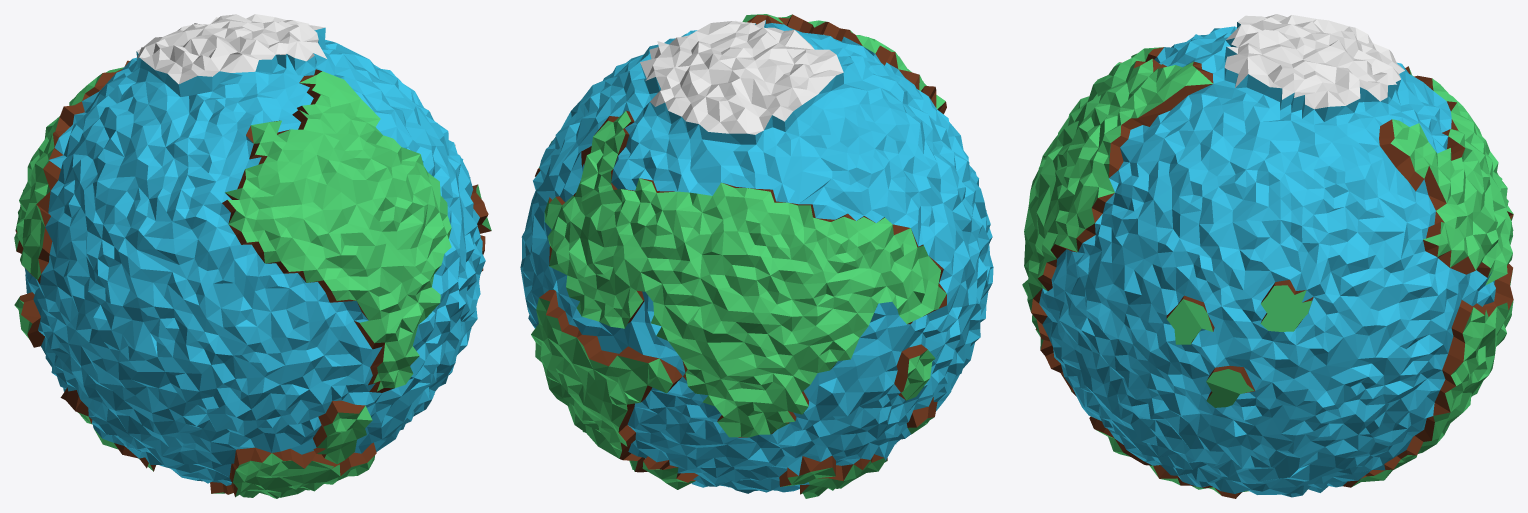
Rendered from earth0.fbx.
3 renders of one model, left to right at view 1: azimuth 30°, elevation 25°; view 2: azimuth 150°, elevation 25°; view 3: azimuth 270°, elevation 25°, orthographic. The views are drawn at different scales.
Visible parts, largest first — view 1: Earth V2; view 2: Earth V2; view 3: Earth V2.
Boxes of the visible parts, bbox=[...] form: Earth V2: bbox=[14, 14, 491, 498]; Earth V2: bbox=[520, 14, 993, 498]; Earth V2: bbox=[1022, 14, 1513, 498].
Bounding box in the file's own units: 214 × 218 × 217.
